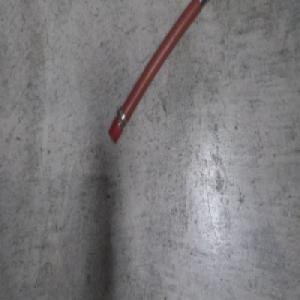Hose: (107, 0, 211, 146)
